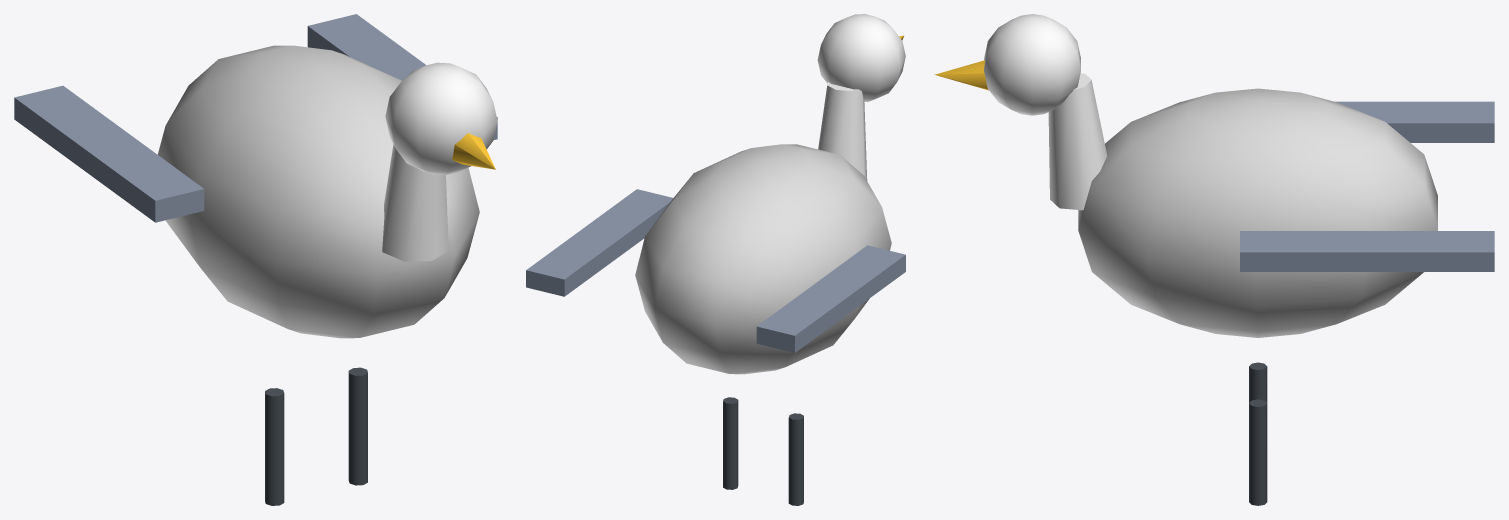
The model's file is gaviota.glb.
3 views of the same model, side by side, from view 1: azimuth 30°, elevation 25°; view 2: azimuth 150°, elevation 25°; view 3: azimuth 270°, elevation 25° (orthographic). The views are drawn at different scales.
Parts seen in each view (by area): view 1: Body, Wing (×2), Leg (×2); view 2: Body, Wing (×2), Leg (×2); view 3: Body, Wing (×2), Leg (×2).
Boxes of the visible parts, x1,y1,x2,y2 form: Body: (157, 45, 497, 338); Wing (×2): (14, 14, 497, 222); Leg (×2): (265, 367, 367, 505); Body: (635, 14, 905, 374); Wing (×2): (526, 189, 905, 352); Leg (×2): (723, 397, 803, 505); Body: (934, 14, 1437, 337); Wing (×2): (1240, 101, 1494, 271); Leg (×2): (1249, 362, 1267, 505).
Size of the model in its own units: 0.98 by 1.41 by 1.54.
